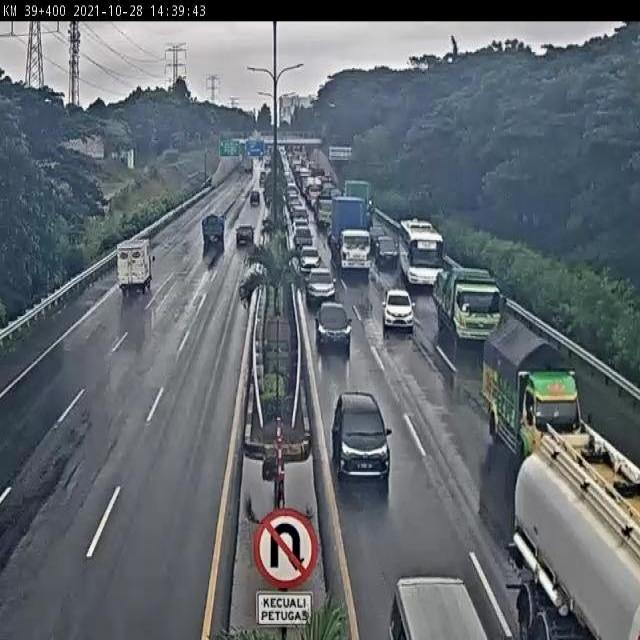Bus: (398, 218, 443, 288)
Car: (331, 391, 393, 490), (315, 300, 353, 353), (382, 288, 415, 333), (304, 267, 336, 308), (373, 233, 399, 270), (317, 198, 334, 230), (235, 225, 253, 248)
Truck: (510, 424, 640, 640), (485, 311, 595, 468), (433, 262, 501, 350), (329, 191, 372, 276), (117, 238, 154, 295), (201, 214, 225, 245)
Van: (390, 568, 490, 640)
